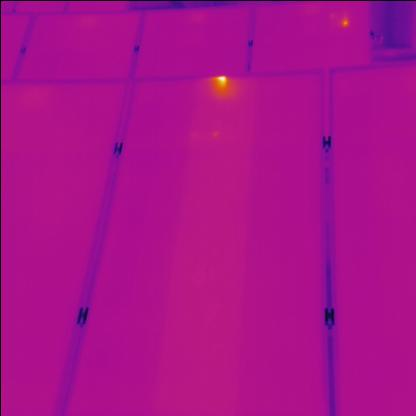hotspot: (210, 71, 233, 91)
